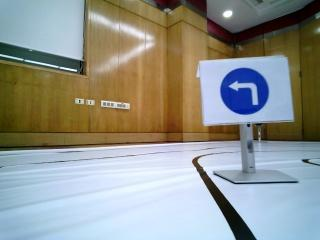left: (203, 66, 288, 119)
